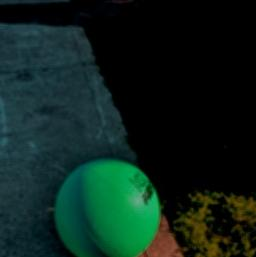algae: (52, 157, 158, 257)
